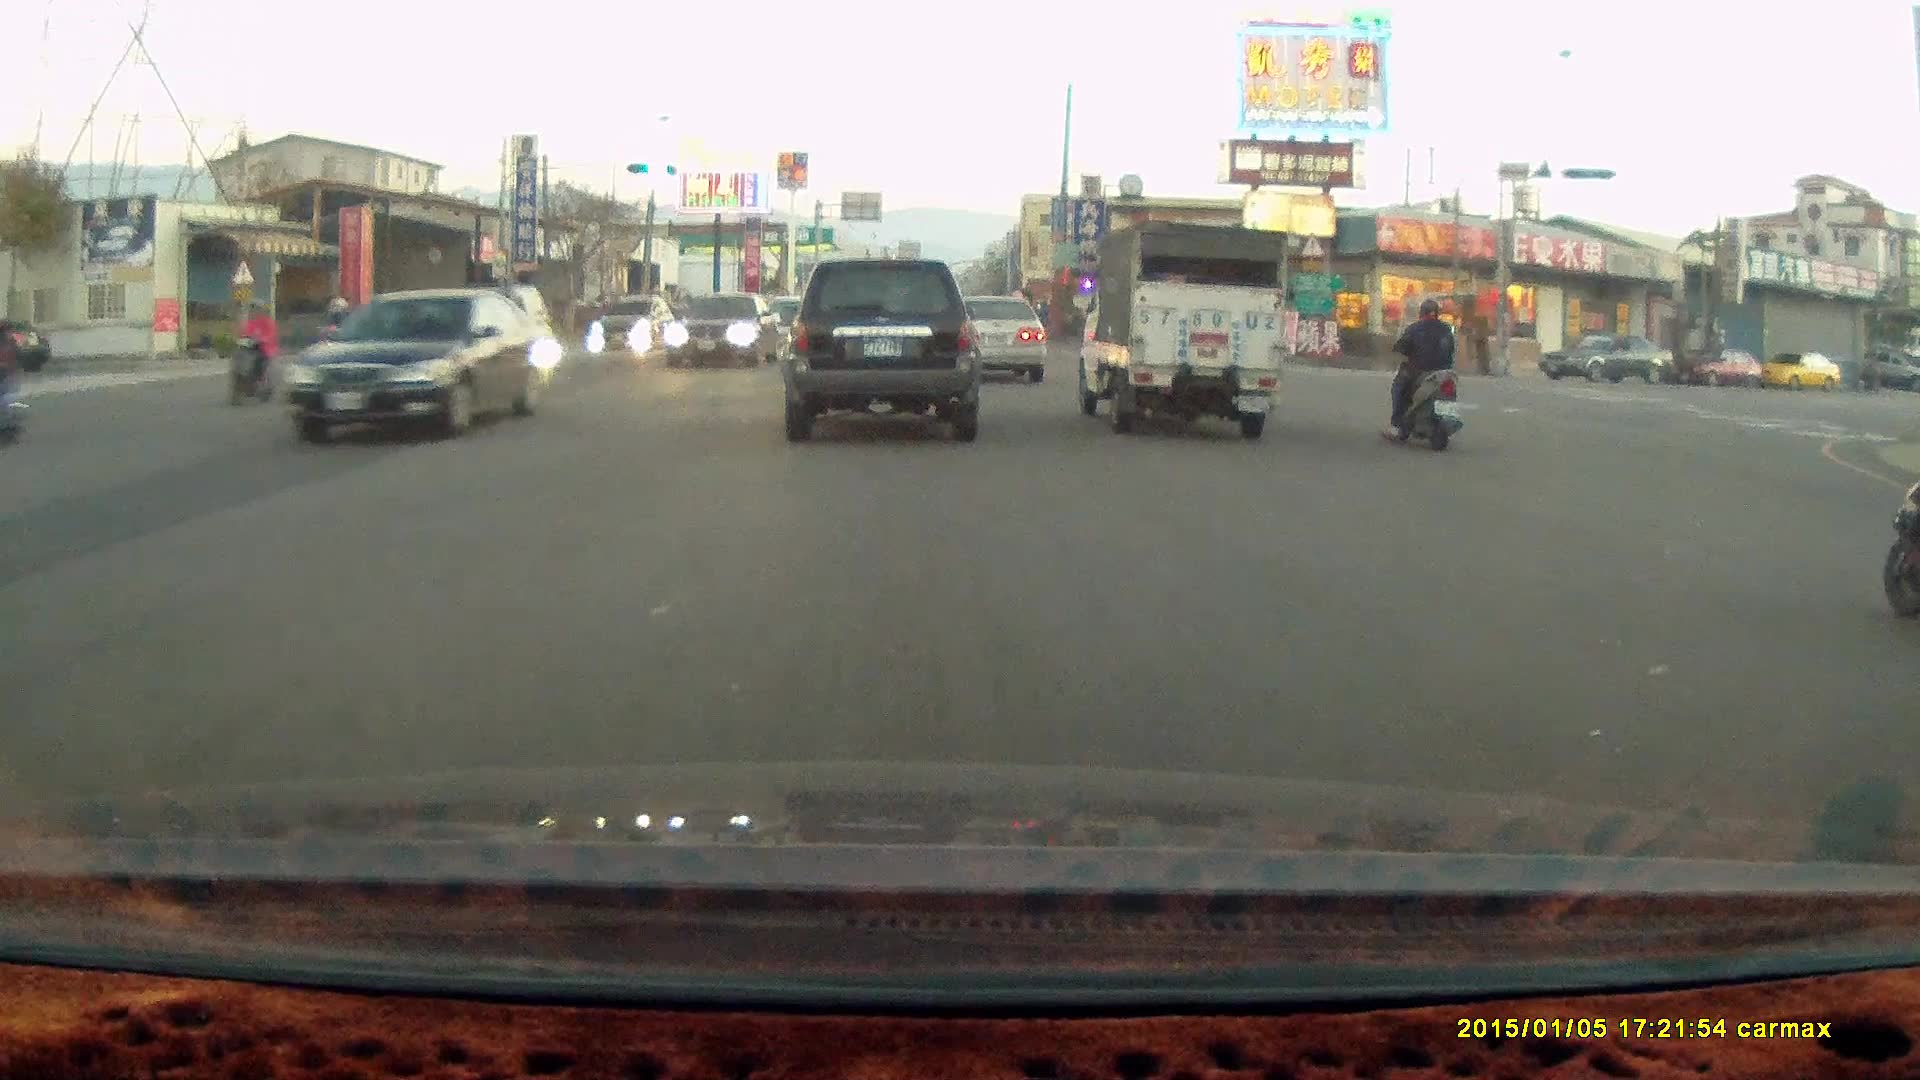rider: (1382, 296, 1462, 453), (1875, 470, 1920, 618), (223, 299, 284, 403), (0, 357, 32, 447)
vehicle: (1068, 217, 1290, 439), (278, 284, 556, 452), (778, 255, 979, 444), (933, 291, 1048, 385), (947, 296, 1049, 386), (666, 294, 783, 372), (1538, 331, 1680, 386), (369, 295, 475, 341), (595, 294, 671, 351), (1755, 353, 1845, 393), (1677, 348, 1766, 388)
